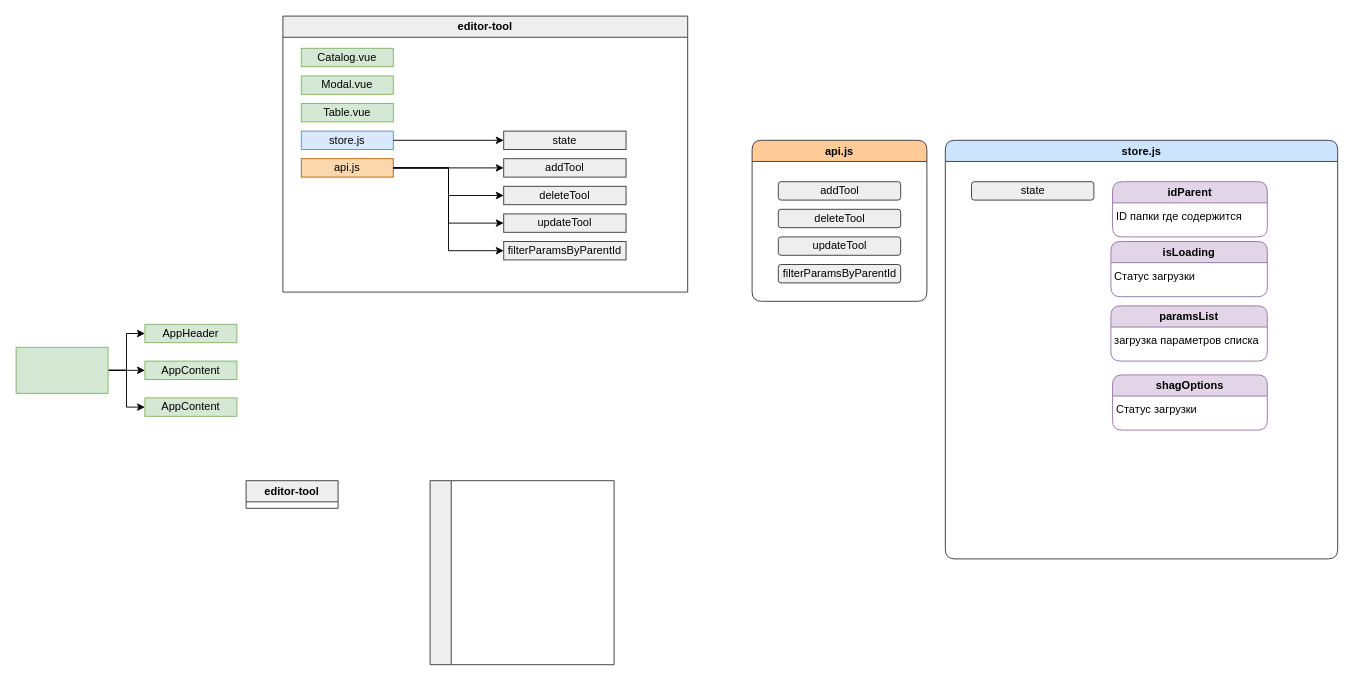
Some shapes in this 1354 by 681 pixel diagram are drawn without their labels. Each missing label, with the centre of its shape:
"APP" belongs at (61,369).
"Horizontal Container" belongs at (521,572).
